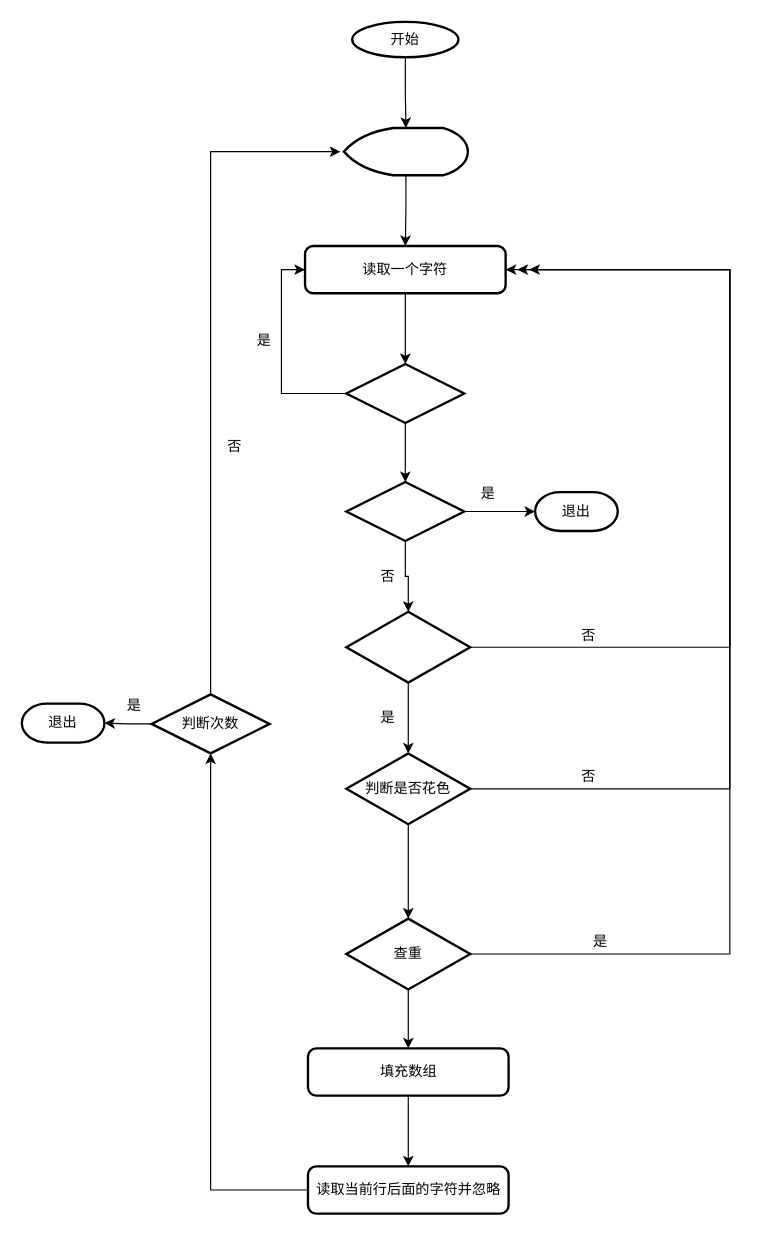
Some shapes in this 760 by 1234 pixel diagram are drawn without their labels. Here are the shapes that lost their labels. From the top down, the centre of each, then its label:
the point at 405,151: 显示他输入提示
the point at 405,393: 判断是否空格
the point at 405,511: 是否为0
the point at 408,646: 判断是否是牌面
